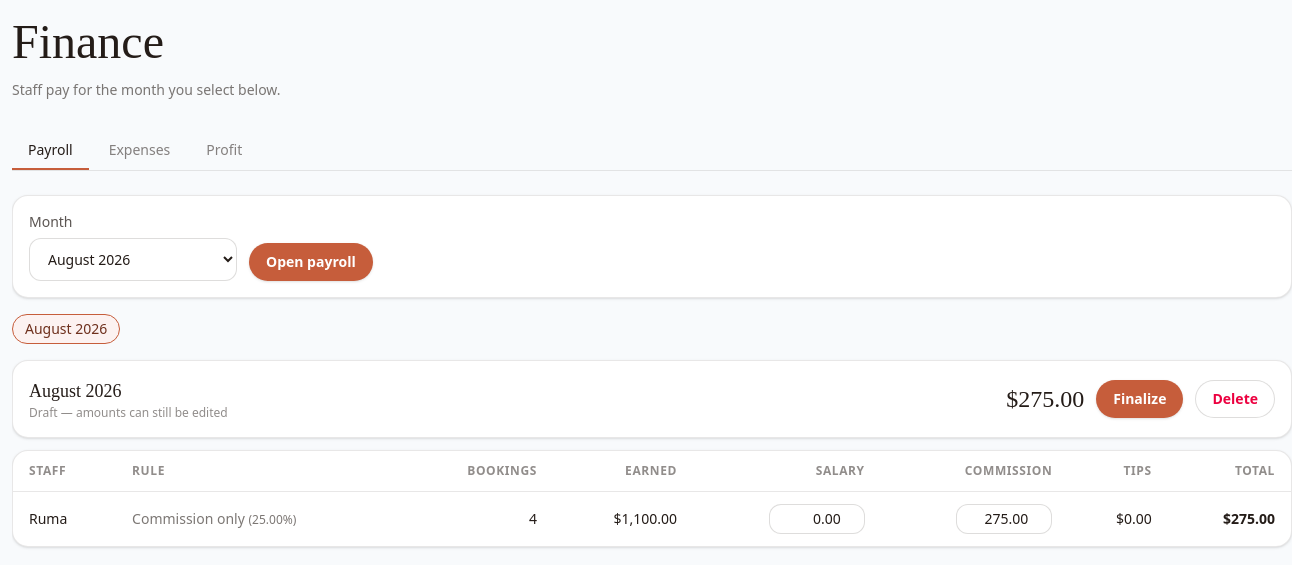
Scenario: FinanceView — Payroll tab › finalizes a run after confirmation, and a finalized run shows static amounts with no editable inputs
Click the button "Finalize".
click(1140, 399)  # box [1096,380,1184,418]
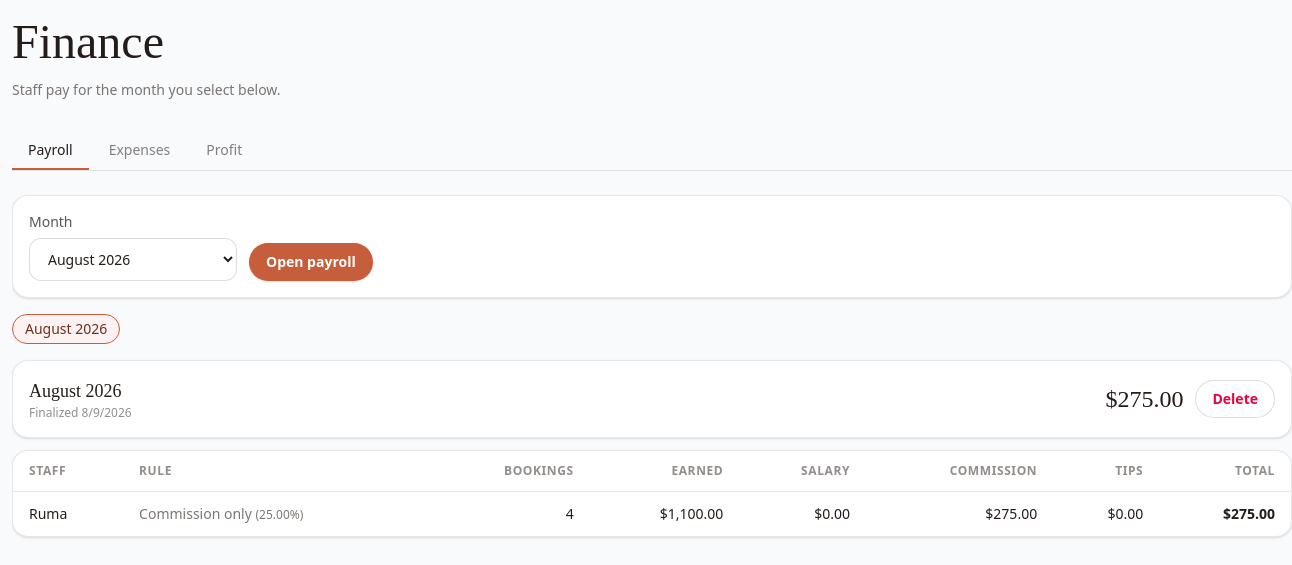
Check: no number fields are shown
